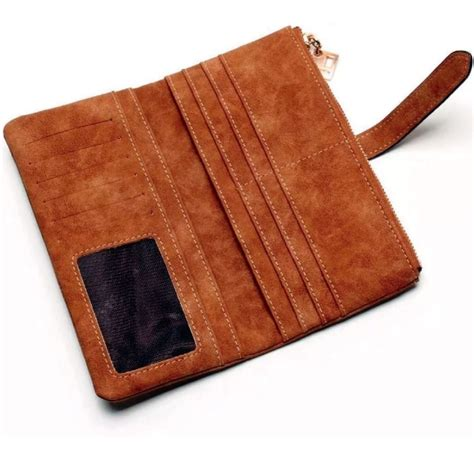gamuza: (3, 25, 474, 401)
